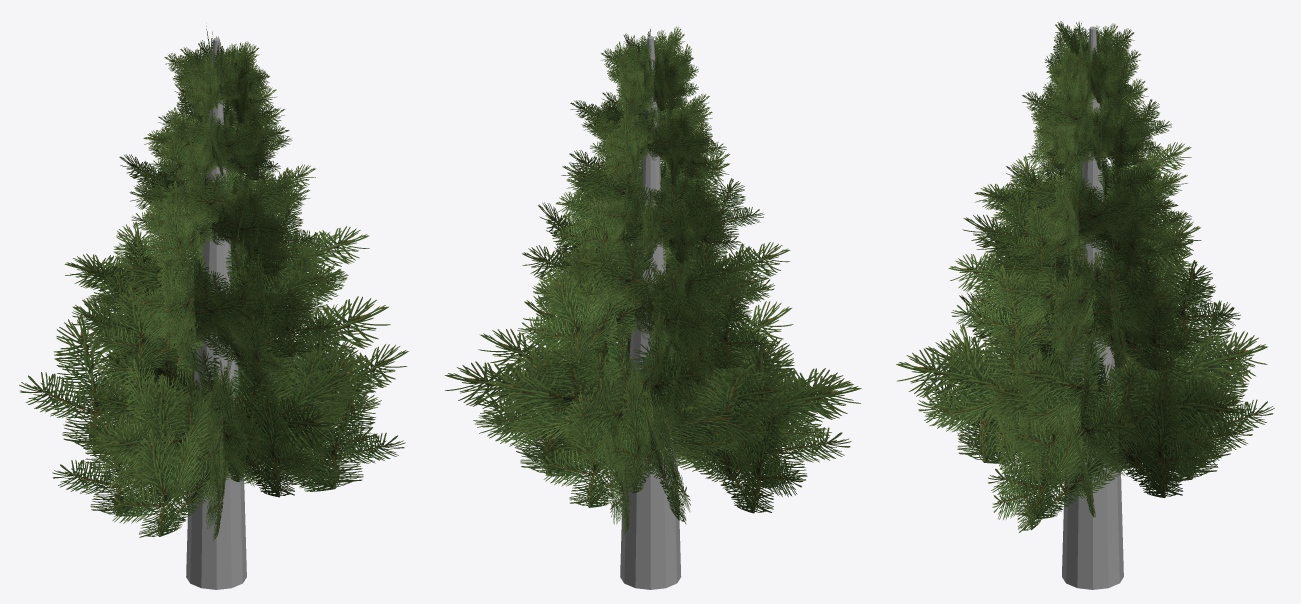
The model's file is SM_Tree3.fbx.
3 renders of one model, left to right at view 1: azimuth 30°, elevation 25°; view 2: azimuth 150°, elevation 25°; view 3: azimuth 270°, elevation 25°, orthographic. The views are drawn at different scales.
Visible parts, largest first — view 1: MASH1_ReproMesh5; view 2: MASH1_ReproMesh5; view 3: MASH1_ReproMesh5.
Part boxes in pixels (box(x1,y1,x2,y2)): MASH1_ReproMesh5: box(19, 26, 408, 589); MASH1_ReproMesh5: box(444, 26, 861, 589); MASH1_ReproMesh5: box(896, 21, 1274, 589).
Size of the model in its own units: 614 by 944 by 604.
